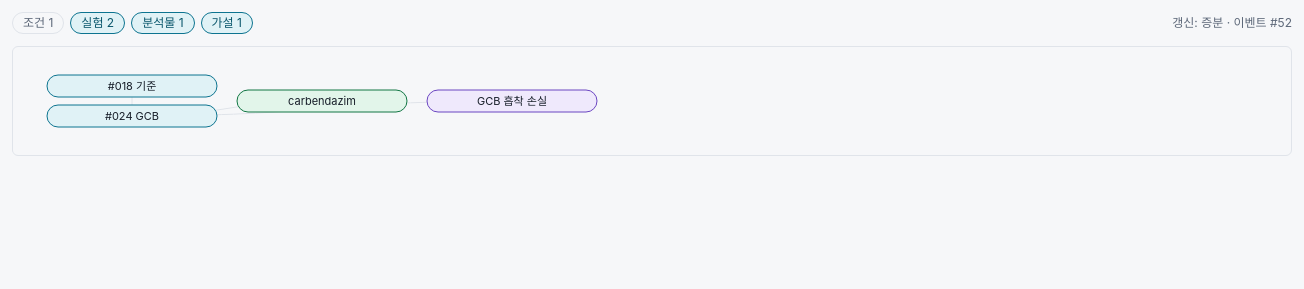
Test: KnowledgeGraphView › selecting another node lists linked experiments (keyboard accessible)
Press Enter in the button "가설: GCB 흡착 손실", box [477, 94, 547, 108]
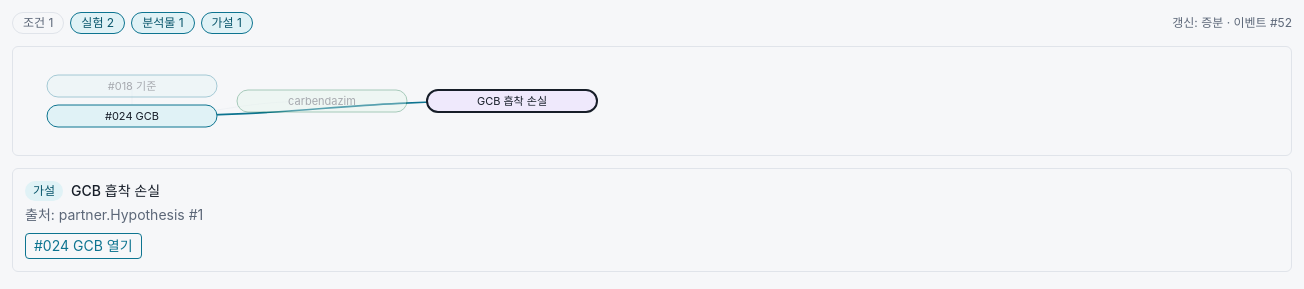
Check: the text "출처: partner.Hypothesis #1" is shown, box [25, 206, 203, 223]
Click the button "#024 GCB 열기" at (83,246), box [25, 233, 142, 259]
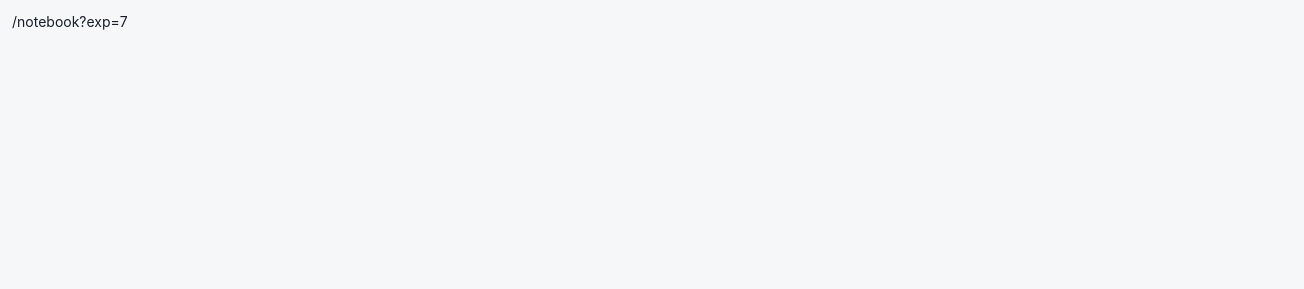
Check: the text with test id "where" reads "/notebook?exp=7", box [12, 13, 128, 30]
